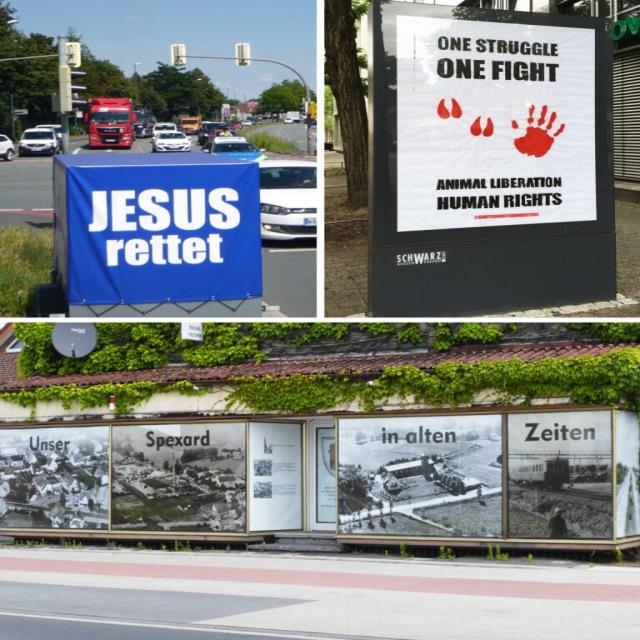Werbetafel frei: (379, 4, 610, 242)
